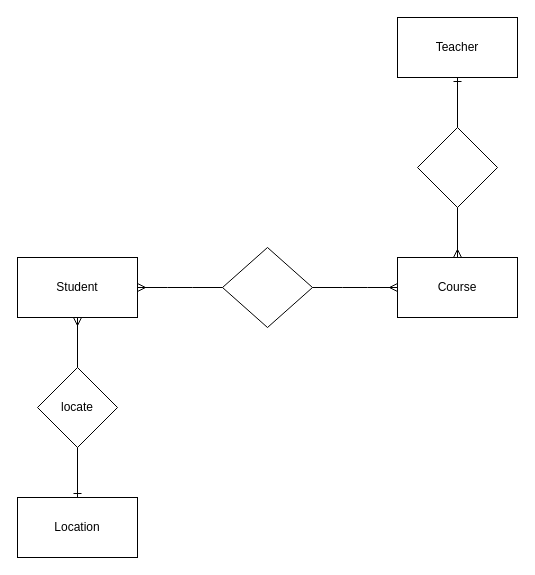
Image size: 535x575. Some labels were removed from this diagram. The box of each missing label's shape, as (x1, y1, x2, y2) in pixels:
Enroll: (222, 246, 312, 328)
Teaches: (416, 126, 498, 208)
